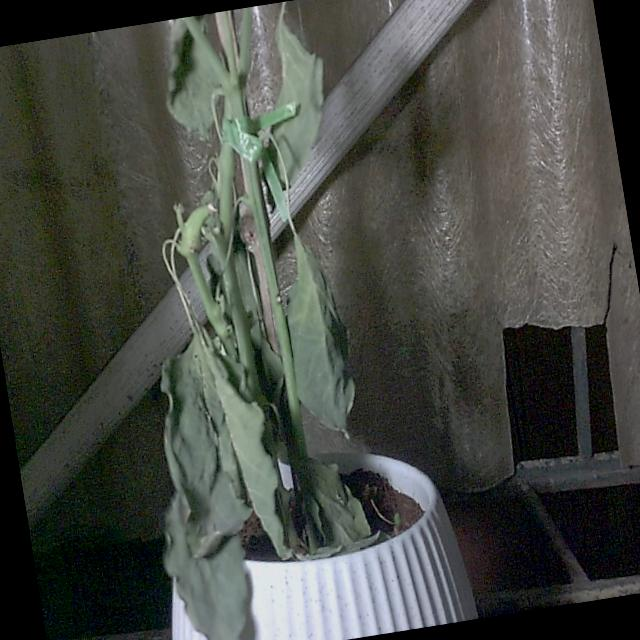Leaf: (204, 334, 296, 568), (273, 232, 366, 447)
